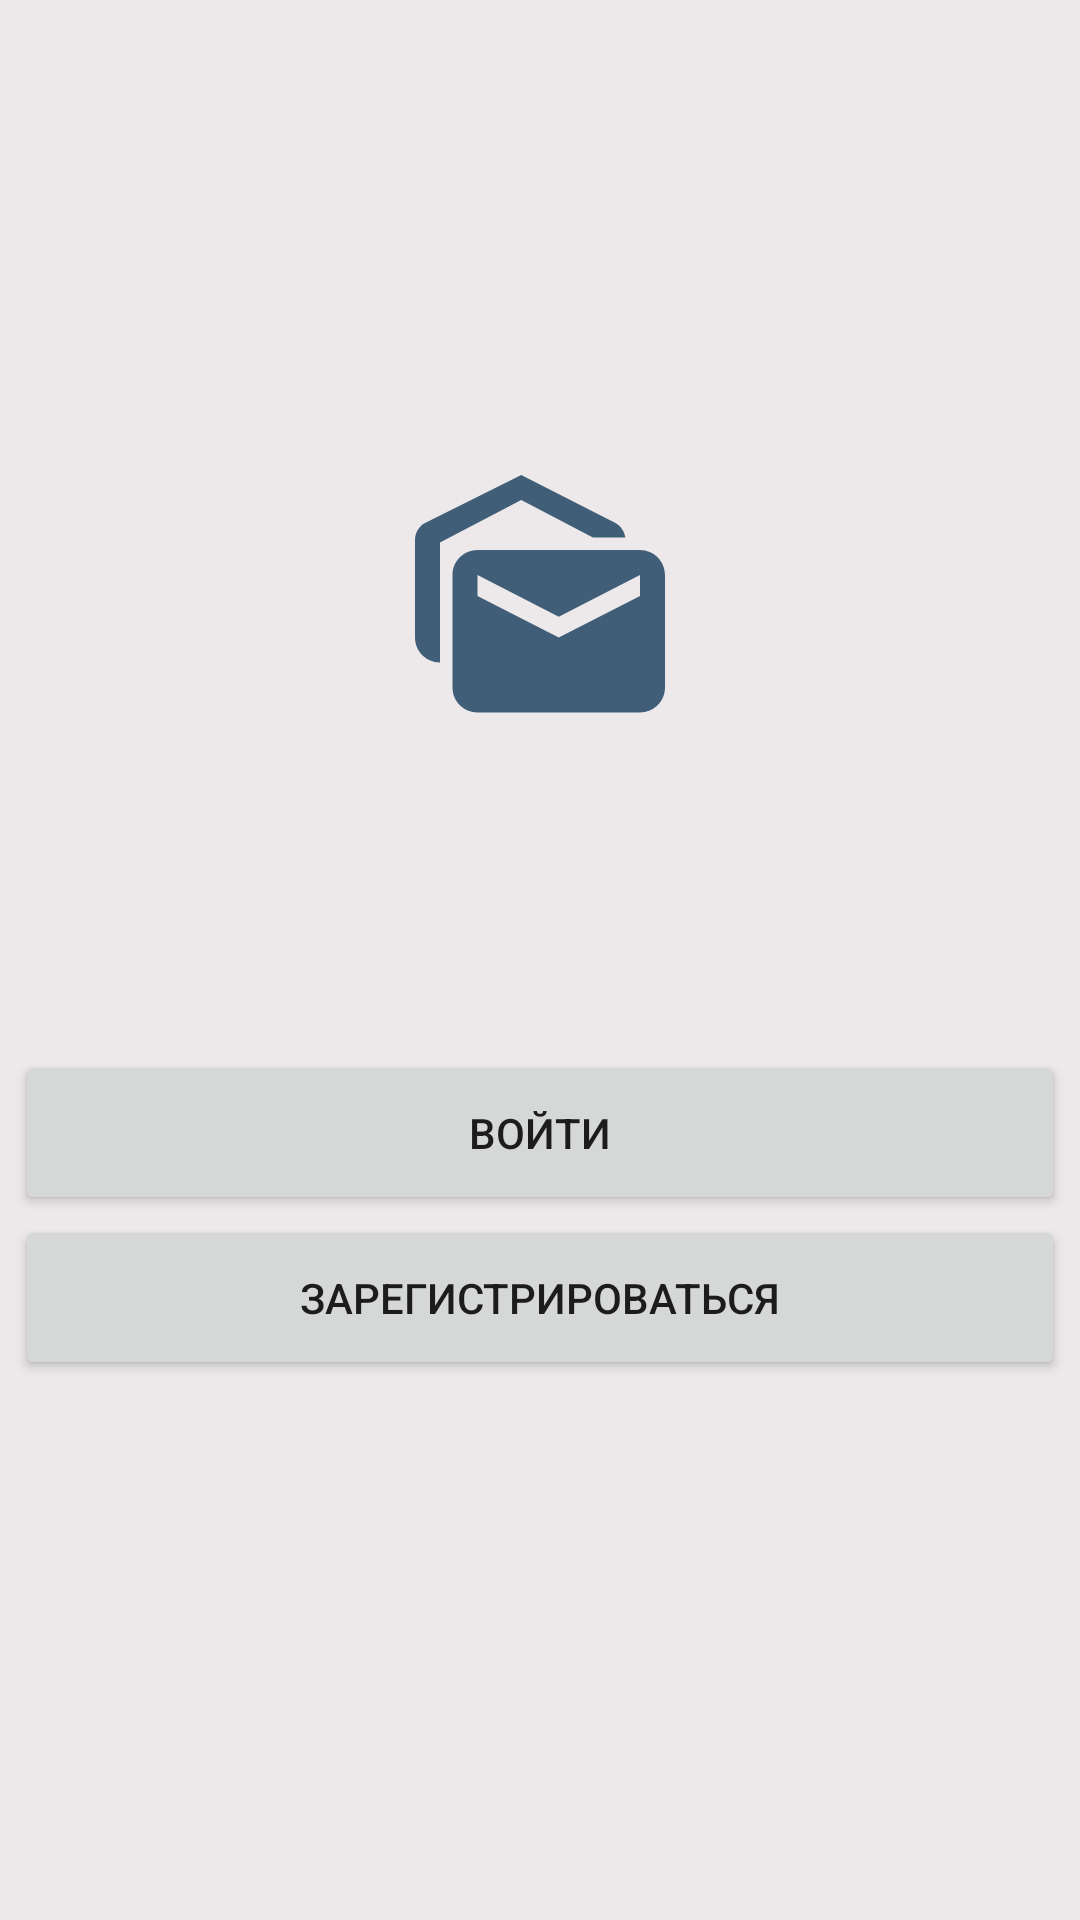

Icon click points for this 1080 × 1920 phone screenshot, format [x,y]:
mark as unread: [540,594]
